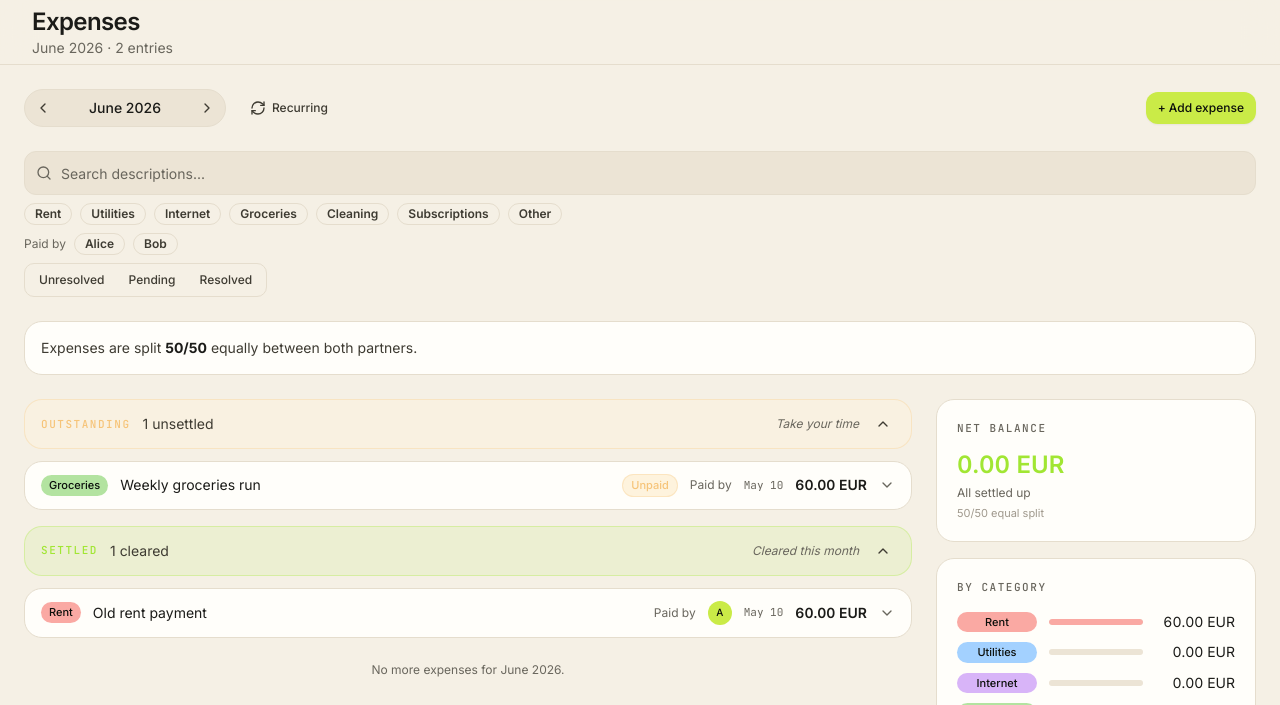
it: <ExpensesPage /> flows › I.9 — Outstanding/Settled section toggles collapse state
The image size is (1280, 705).
Expected: the text "OUTSTANDING" is shown, [41,416,130,432]
Expected: the text "SETTLED" is shown, [41,542,98,559]
// Click to collapse the outstanding section
Click the button without text next to "Take your time" at (883, 424), box [871,412,895,436]
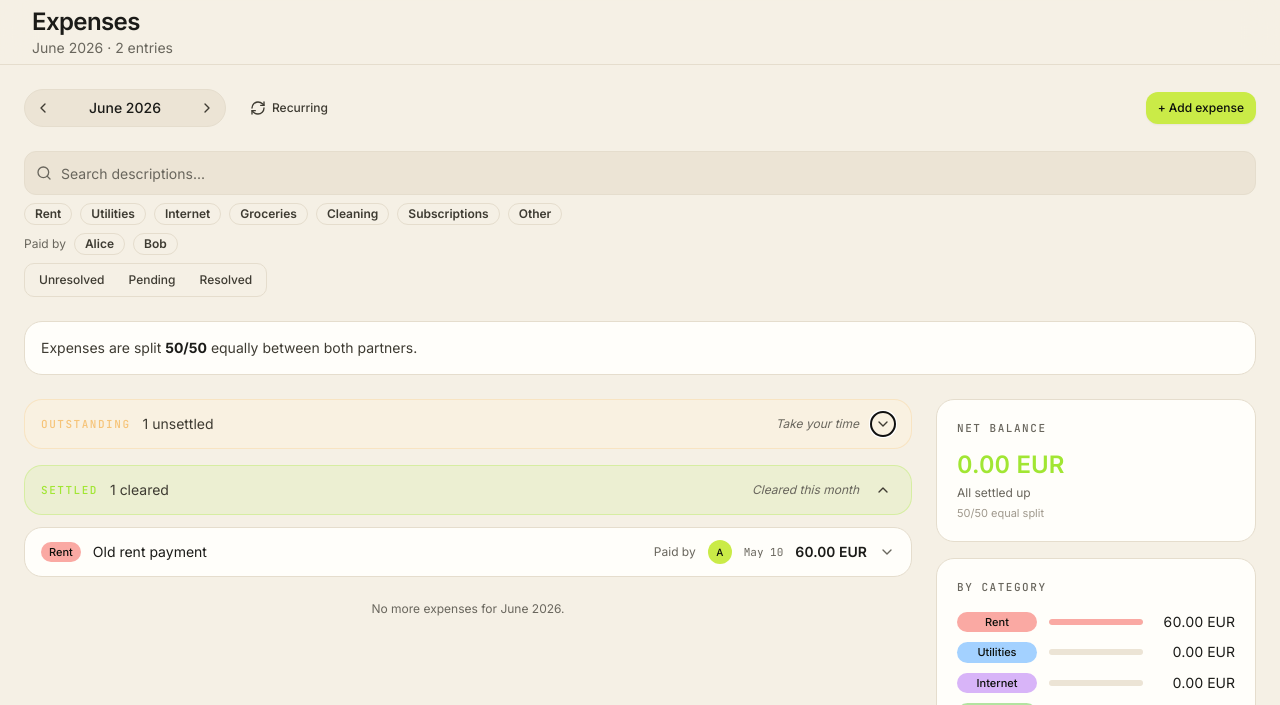
Now the text "Weekly groceries run" is gone
// Click again to expand
Click the button without text next to "Take your time" at (883, 424), box [871,412,895,436]
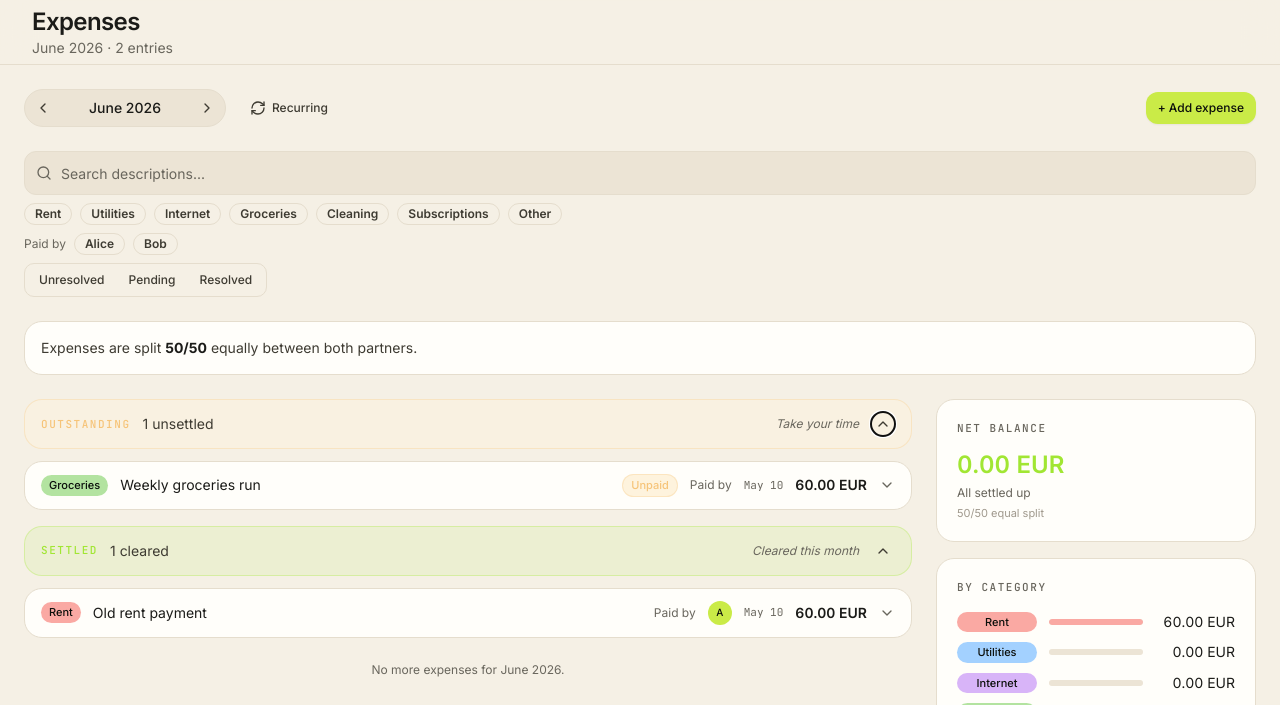
Now the text "Weekly groceries run" is shown, box [120,476,261,493]
